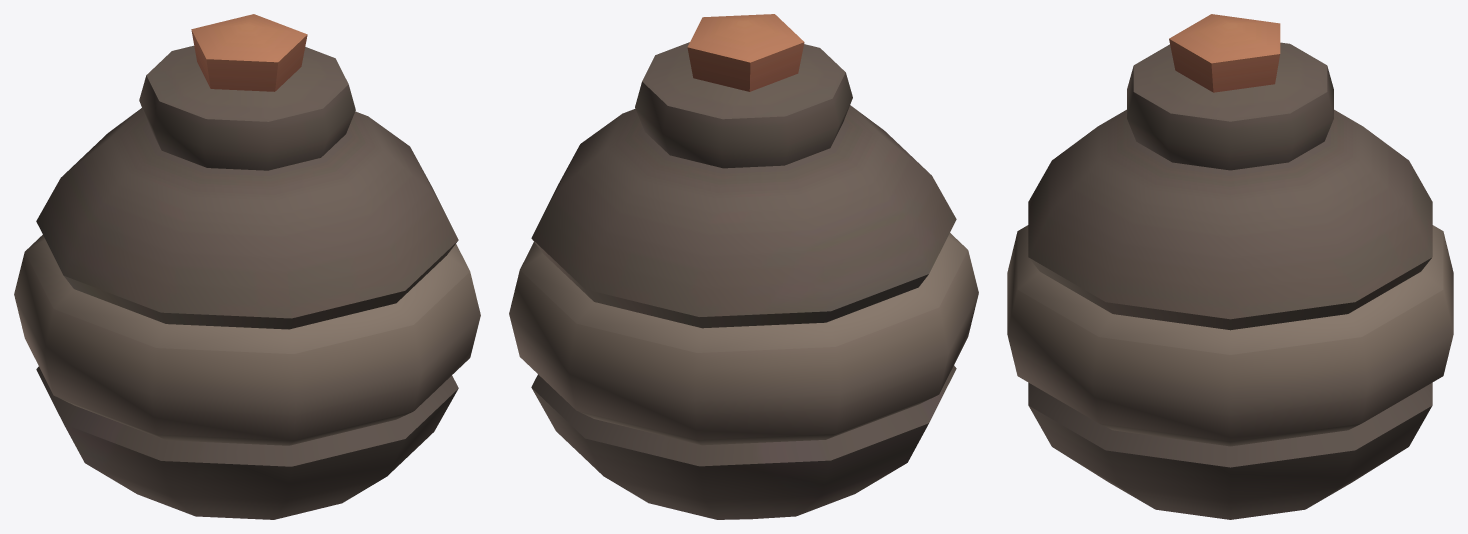
Rendered from kaykit-character-pack-adventures-smokebomb.glb.
The picture shows the model from 3 angles, left to right: view 1: azimuth 30°, elevation 25°; view 2: azimuth 150°, elevation 25°; view 3: azimuth 270°, elevation 25°; orthographic projection.
Parts seen in each view (by area): view 1: smokebomb; view 2: smokebomb; view 3: smokebomb.
Part boxes in pixels (x1,y1,x2,y2): smokebomb: [14, 14, 480, 519]; smokebomb: [509, 14, 978, 519]; smokebomb: [1007, 14, 1453, 519].
Bounding box in the file's own units: 0.3826 × 0.4231 × 0.3638.
1 material, 1 textured.
